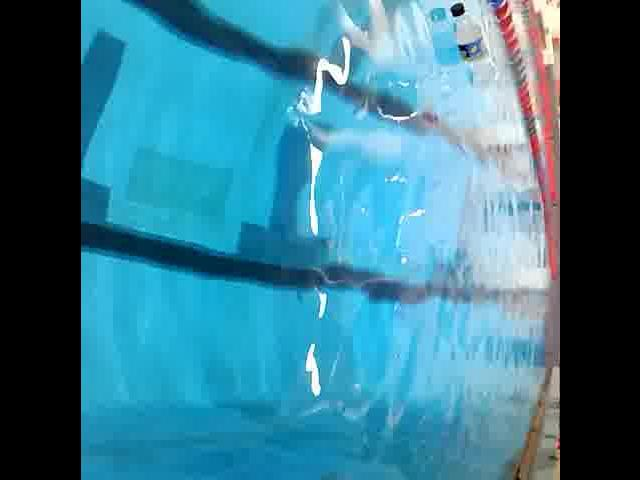Bottle: (440, 0, 500, 93)
